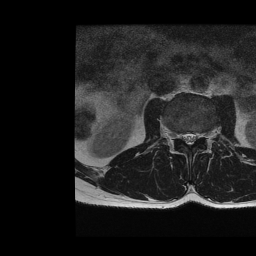CCS_stenosis: (187, 126, 192, 151)
LFS_stenosis: (197, 126, 204, 142)
LLS_stenosis: (191, 127, 197, 146)
RFS_stenosis: (173, 125, 180, 144)
RLS_normal: (180, 127, 187, 146)
